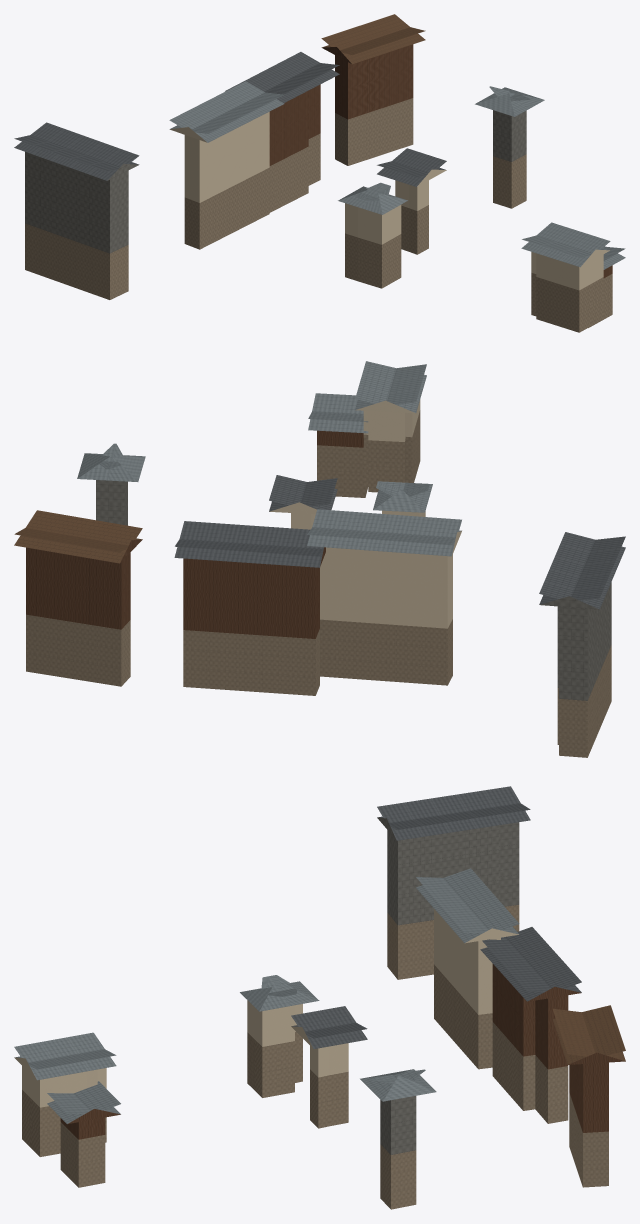
Rendered from bld_c0_-1_537.gltf.
The picture shows the model from 3 angles, top to bottom: view 1: azimuth 30°, elevation 25°; view 2: azimuth 150°, elevation 25°; view 3: azimuth 270°, elevation 25°; orthographic projection. The views are drawn at different scales.
Parts seen in each view (by area): view 1: bld_c0_-1_537; view 2: bld_c0_-1_537; view 3: bld_c0_-1_537.
Part boxes in pixels (x1,y1,x2,y2): bld_c0_-1_537: [14, 14, 625, 332]; bld_c0_-1_537: [14, 361, 625, 757]; bld_c0_-1_537: [14, 786, 625, 1209].
Size of the model in its own units: 54.55 by 15.5 by 51.94.
Materials: 10 (10 with a texture image).
